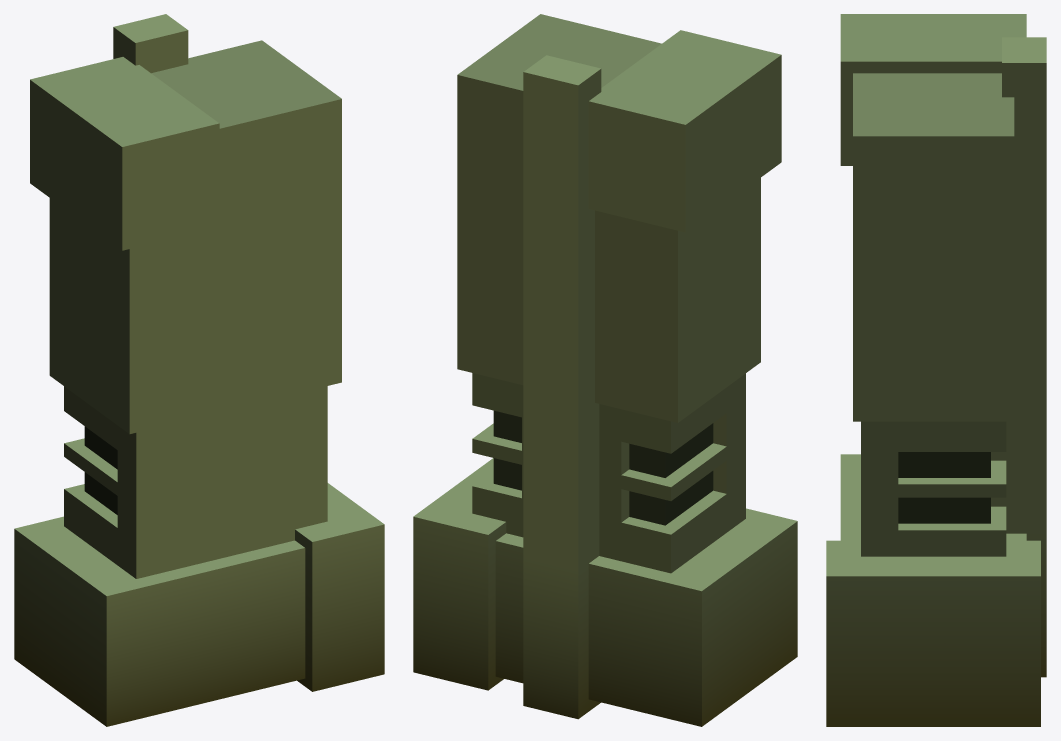
The model's file is Pillar_01.fbx.
The picture shows the model from 3 angles, left to right: view 1: azimuth 30°, elevation 25°; view 2: azimuth 150°, elevation 25°; view 3: azimuth 270°, elevation 25°; orthographic projection. The views are drawn at different scales.
Visible parts, largest first — view 1: Pillar_01; view 2: Pillar_01; view 3: Pillar_01.
Part boxes in pixels (left/top/right/bottom): Pillar_01: left=14, top=14, right=384, bottom=726; Pillar_01: left=413, top=14, right=797, bottom=726; Pillar_01: left=826, top=14, right=1046, bottom=726.
Size of the model in its own units: 244 by 527 by 171.
